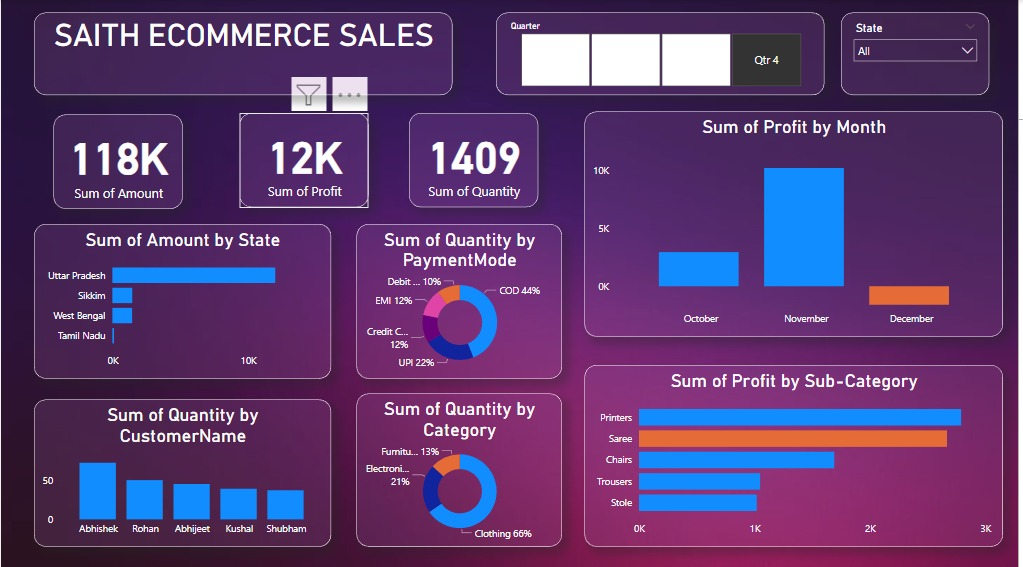

Layout of this report page (visuals, bound fields, positions):
{"tool":"powerbi","page":{"name":"Page 1","canvas":[1280,720],"ordinal":0},"visuals":[{"type":"columnChart","fields":{"Y":["Details.Profit"],"Category":["Orders.Order Date.Variation.Date Hierarchy.Month"]},"box":[734.4,141.6,526.7,283.2],"z":0},{"type":"barChart","fields":{"Y":["Details.Profit"],"Category":["Details.Sub-Category"]},"box":[734.4,460.6,526.7,228.4],"z":1000},{"type":"donutChart","fields":{"Category":["Details.Category"],"Y":["Details.Quantity"]},"box":[447.4,496.5,258.6,192.6],"z":2000},{"type":"donutChart","fields":{"Y":["Details.Quantity"],"Category":["Details.PaymentMode"]},"box":[447.4,283.2,258.6,194.5],"z":3000},{"type":"card","fields":{"Values":["Details.Amount"]},"box":[66.1,145.4,162.4,118.9],"z":4000},{"type":"card","fields":{"Values":["Details.Profit"]},"box":[300.2,143.5,162.4,118.9],"z":5000},{"type":"card","fields":{"Values":["Details.Quantity"]},"box":[513.5,143.5,162.4,118.9],"z":6000},{"type":"barChart","fields":{"Y":["Details.Amount"],"Category":["Orders.State"]},"box":[41.5,283.2,373.8,194.5],"z":7000},{"type":"columnChart","fields":{"Category":["Orders.CustomerName"],"Y":["Details.Quantity"]},"box":[41.5,504.1,373.8,185],"z":8000},{"type":"textbox","title":"SAITH ECOMMERCE SALES","box":[41.5,17,526.7,103.8],"z":9000},{"type":"slicer","fields":{"Values":["Orders.Order Date.Variation.Date Hierarchy.Quarter"]},"box":[623,17,413.5,103.8],"z":10000},{"type":"slicer","fields":{"Values":["Orders.State"]},"box":[1057.2,17,186.9,103.8],"z":10001}]}

Visuals, with their boxes in screenshot pixels (x1, y1, x2, y2), scaled from the page's 1280x720 canvas onto the 1023x567 screenshot:
columnChart - Details.Profit x Orders.Order Date.Variation.Date Hierarchy.Month: region(587, 112, 1008, 335)
barChart - Details.Profit x Details.Sub-Category: region(587, 363, 1008, 543)
donutChart - Details.Category x Details.Quantity: region(358, 391, 564, 543)
donutChart - Details.Quantity x Details.PaymentMode: region(358, 223, 564, 376)
card - Details.Amount: region(53, 115, 183, 208)
card - Details.Profit: region(240, 113, 370, 207)
card - Details.Quantity: region(410, 113, 540, 207)
barChart - Details.Amount x Orders.State: region(33, 223, 332, 376)
columnChart - Orders.CustomerName x Details.Quantity: region(33, 397, 332, 543)
"SAITH ECOMMERCE SALES" textbox: region(33, 13, 454, 95)
slicer - Orders.Order Date.Variation.Date Hierarchy.Quarter: region(498, 13, 828, 95)
slicer - Orders.State: region(845, 13, 994, 95)
